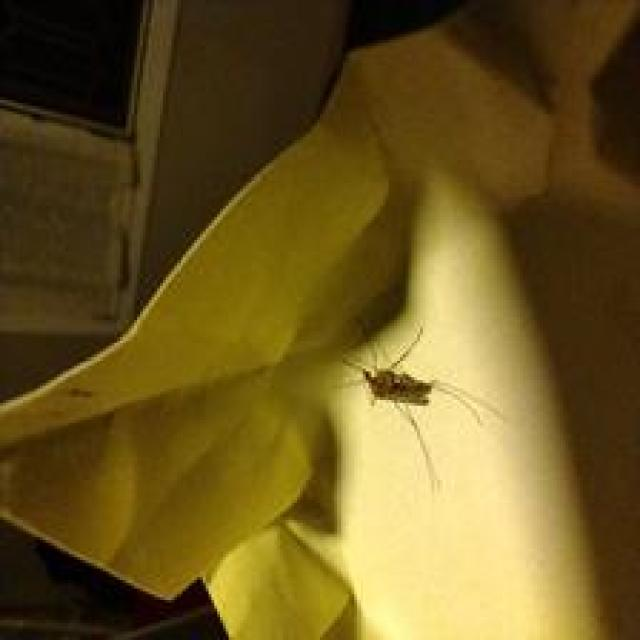Culex: (339, 324, 504, 490)
